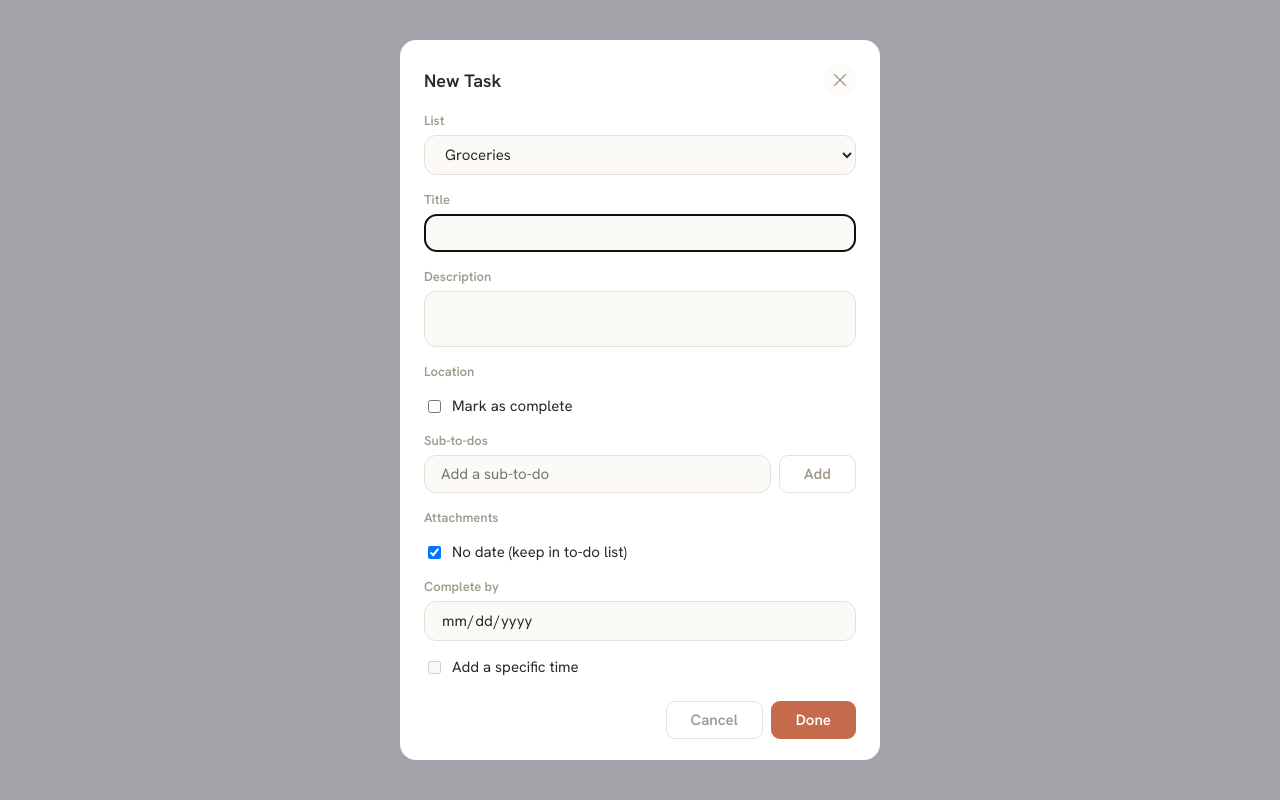
PlanItemModal › abandons a rename on Escape
Type "Pack bag" into the field with placeholder "Add a sub-to-do" at (597, 474), box [424,455,771,493]
Then press Enter
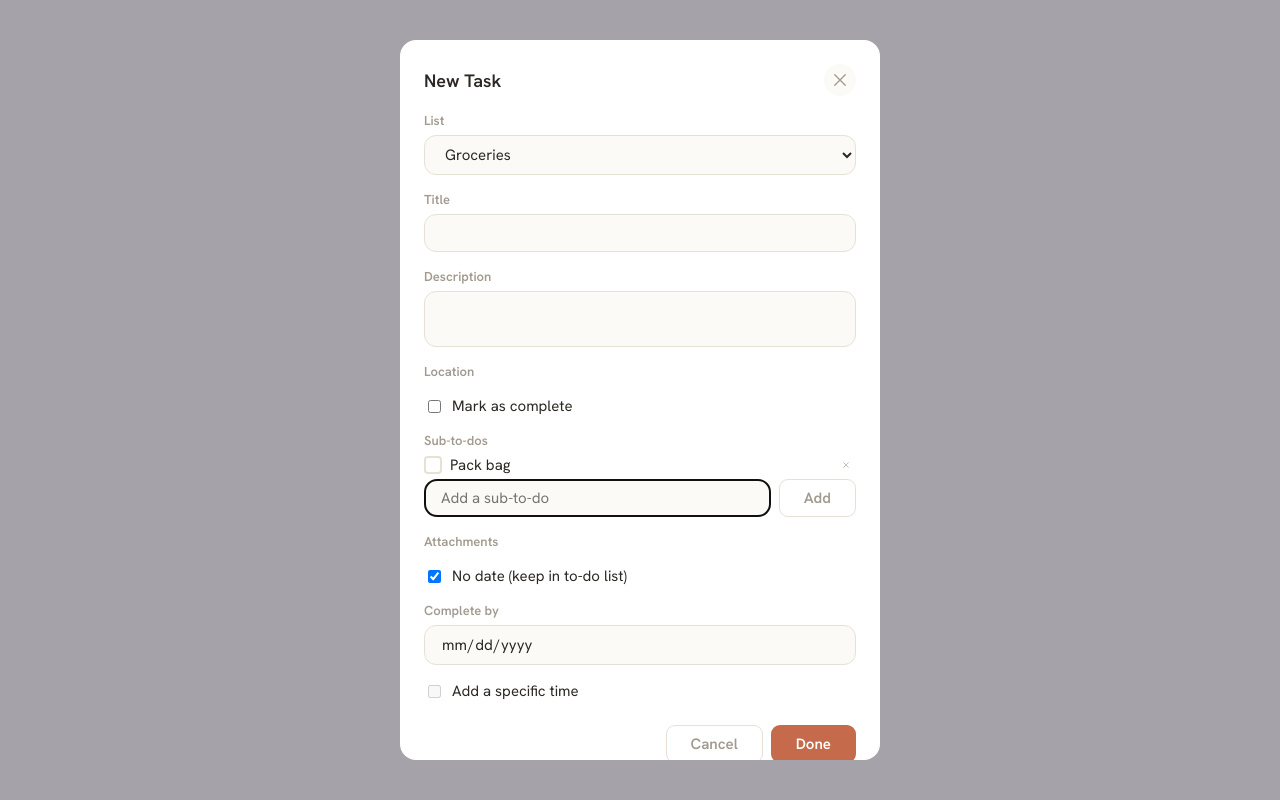
Click the button "Pack bag" at (480, 465), box [450,455,510,475]
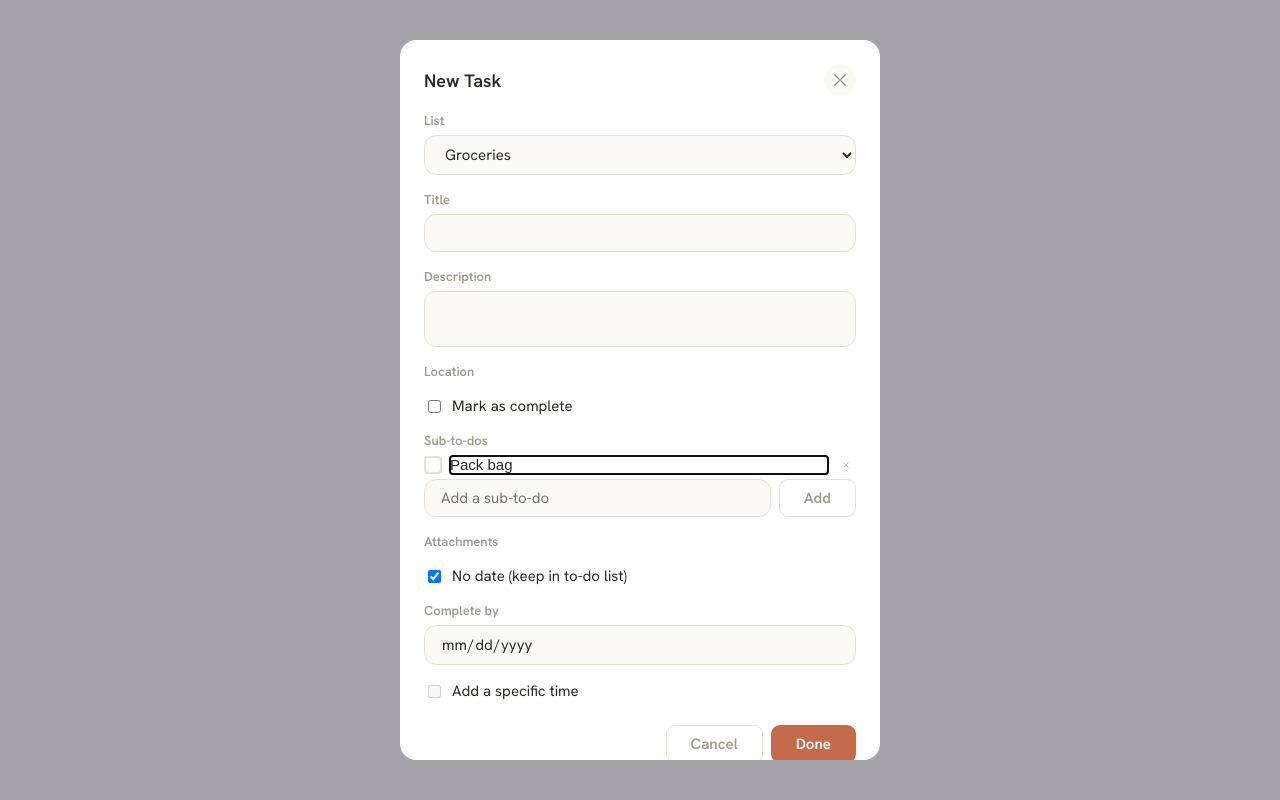
Replace the text in the field named "Edit Pack bag" with "Throw away" at (639, 465), box [450,456,828,474]
Then press Escape
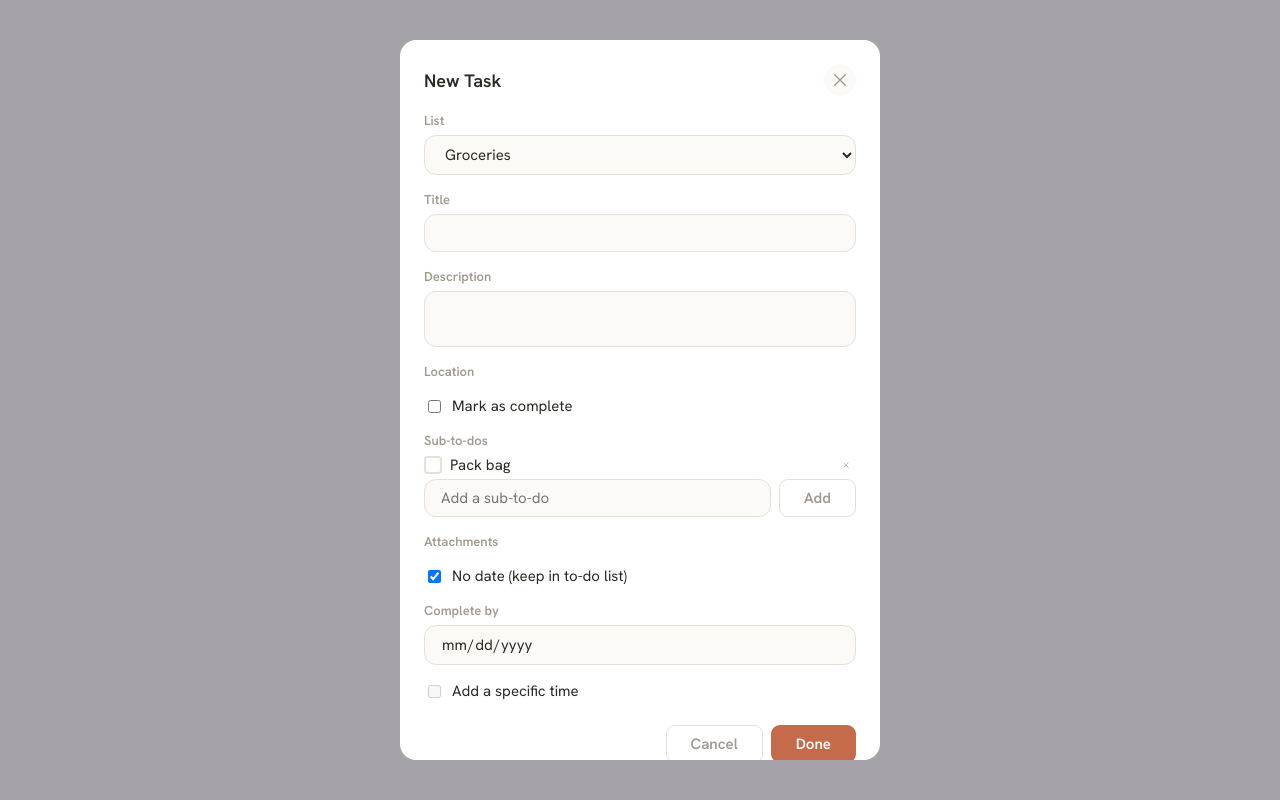
Check: the button "Pack bag" is shown, box [450,455,510,475]
